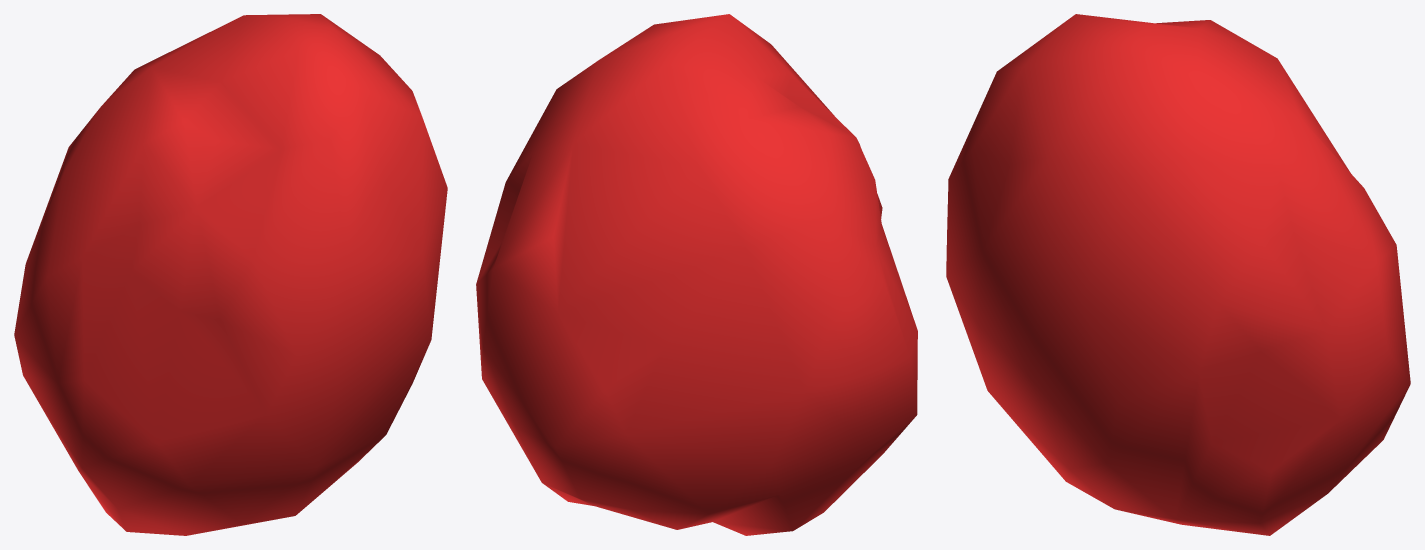
The model's file is Asteroids.fbx.
3 views of the same model, side by side, from view 1: azimuth 30°, elevation 25°; view 2: azimuth 150°, elevation 25°; view 3: azimuth 270°, elevation 25° (orthographic). The views are drawn at different scales.
Parts seen in each view (by area): view 1: Asteroid; view 2: Asteroid; view 3: Asteroid.
Boxes of the visible parts, x1,y1,x2,y2 form: Asteroid: (14, 14, 447, 535); Asteroid: (476, 14, 917, 535); Asteroid: (946, 14, 1410, 535).
Size of the model in its own units: 242 by 290 by 239.
